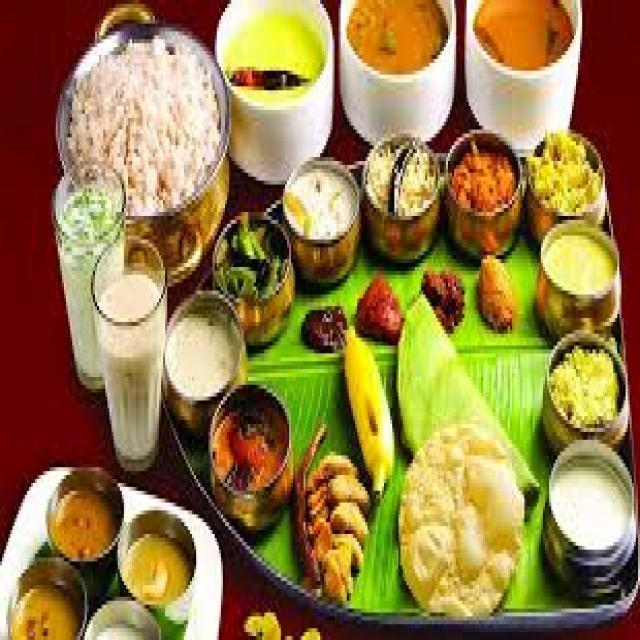curd: (543, 450, 637, 560), (162, 300, 249, 412), (283, 164, 364, 261)
dal: (86, 251, 167, 336)
papad: (391, 415, 534, 608)
raita: (282, 162, 363, 265)
rice: (85, 33, 227, 221)
sambar-rasam: (340, 0, 453, 98), (463, 0, 582, 85), (46, 471, 123, 566)
sweet: (207, 390, 296, 514), (224, 5, 323, 104), (467, 0, 580, 84)
veg-fry: (205, 385, 297, 512), (446, 135, 526, 250)
